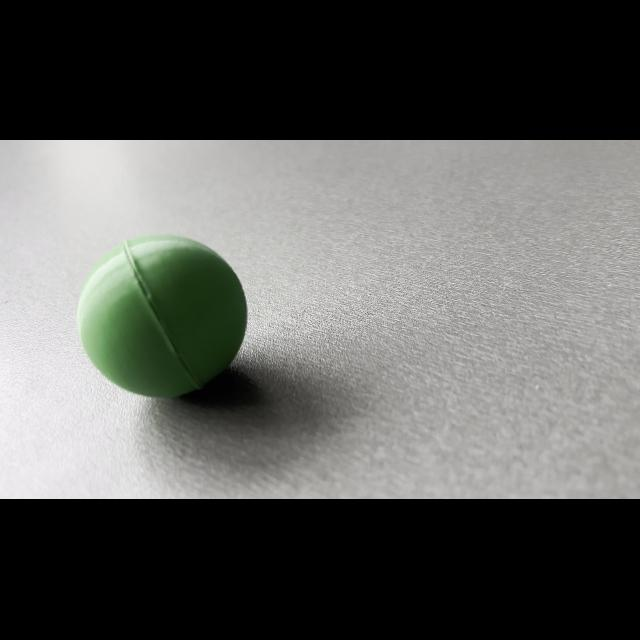objects: (66, 222, 260, 406)
